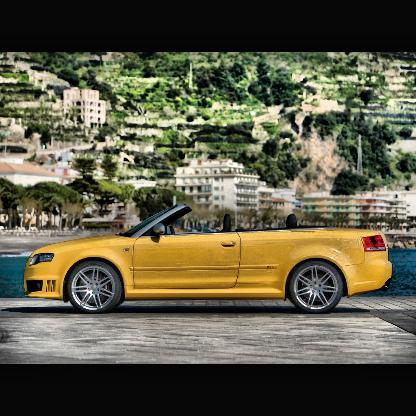Audi RS 4 Convertible 2008: (22, 206, 395, 314)
